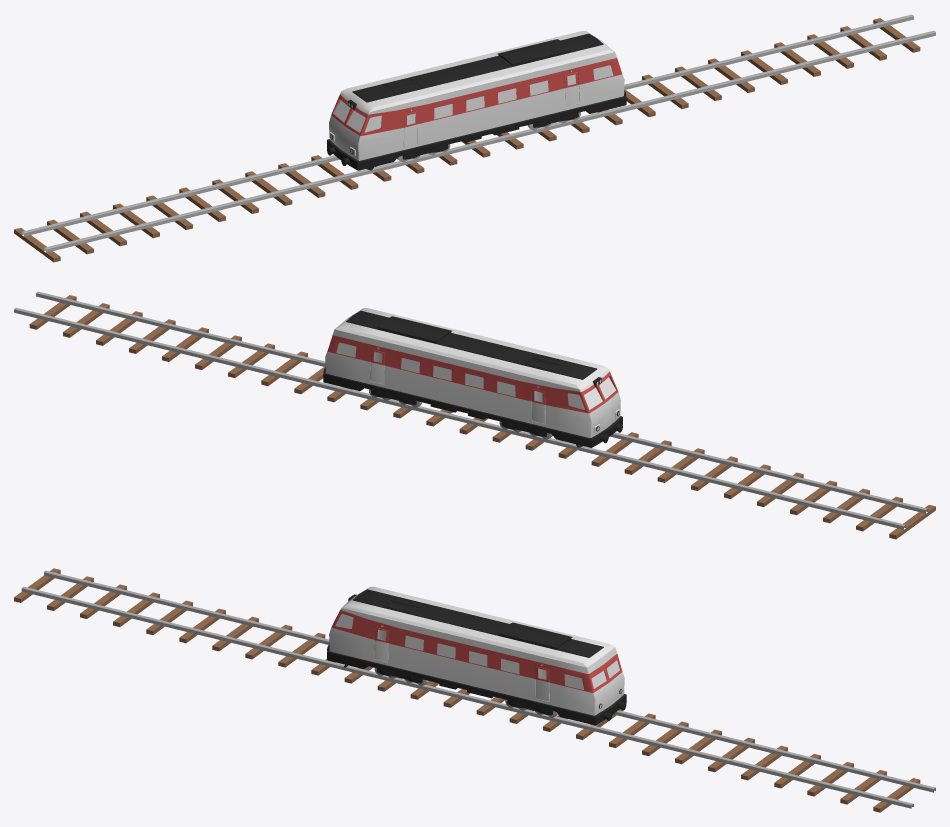
File: LowPolyTrain.fbx
The picture shows the model from 3 angles, top to bottom: view 1: azimuth 30°, elevation 25°; view 2: azimuth 150°, elevation 25°; view 3: azimuth 330°, elevation 25°; orthographic projection.
Visible parts, largest first — view 1: Train.001, TrainRails.001; view 2: Train.001, TrainRails.001; view 3: Train.001, TrainRails.001.
Part boxes in pixels (x1,y1,x2,y2): Train.001: [327, 31, 626, 170]; TrainRails.001: [14, 14, 935, 262]; Train.001: [323, 308, 622, 447]; TrainRails.001: [14, 291, 935, 539]; Train.001: [327, 586, 626, 725]; TrainRails.001: [14, 568, 935, 812].
Bounding box in the file's own units: 7264 × 588 × 563.
